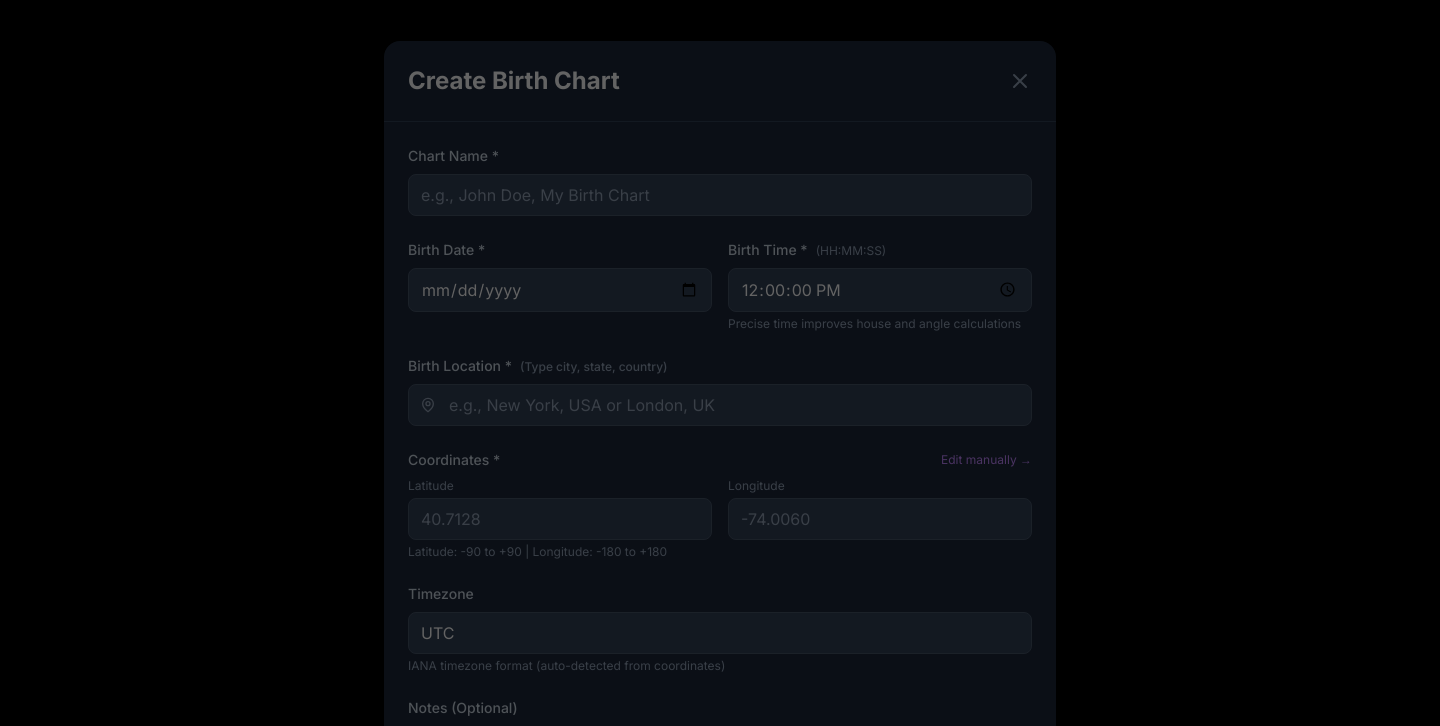
Scenario: BirthChartForm - Geocoding Integration › Dropdown Behavior › should reopen dropdown when focusing search input with results
This screenshot has width=1440, height=726.
Type "Vienna" into the field with placeholder "e.g., New York, USA or London, UK". click: (720, 404)
box: [408,384,1032,426]
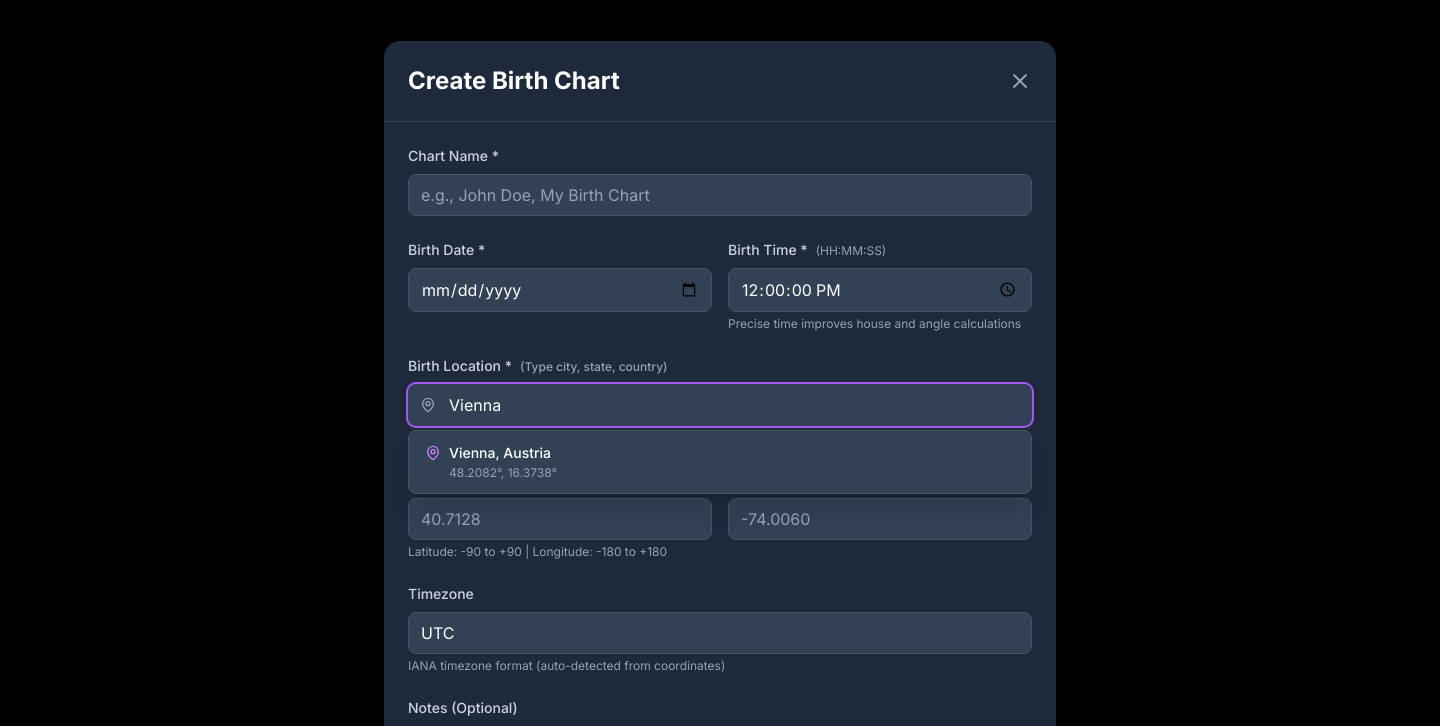
expect the text "Vienna, Austria" is shown: met, box [449,444,551,460]
Click outside to close
Click the heading "Create Birth Chart". click: (514, 80)
box: [408,64,620,96]
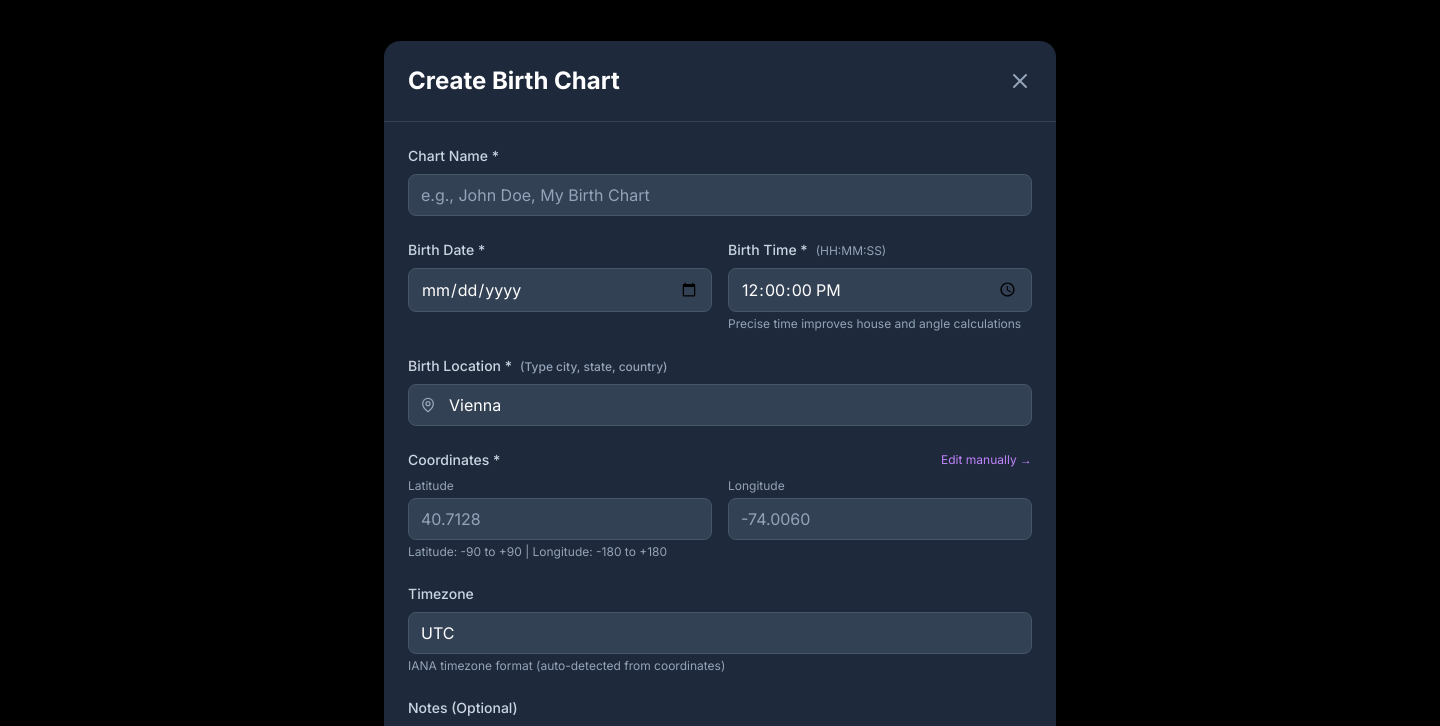
Focus back on search input
Click the field with placeholder "e.g., New York, USA or London, UK". click: (720, 404)
box: [408,384,1032,426]
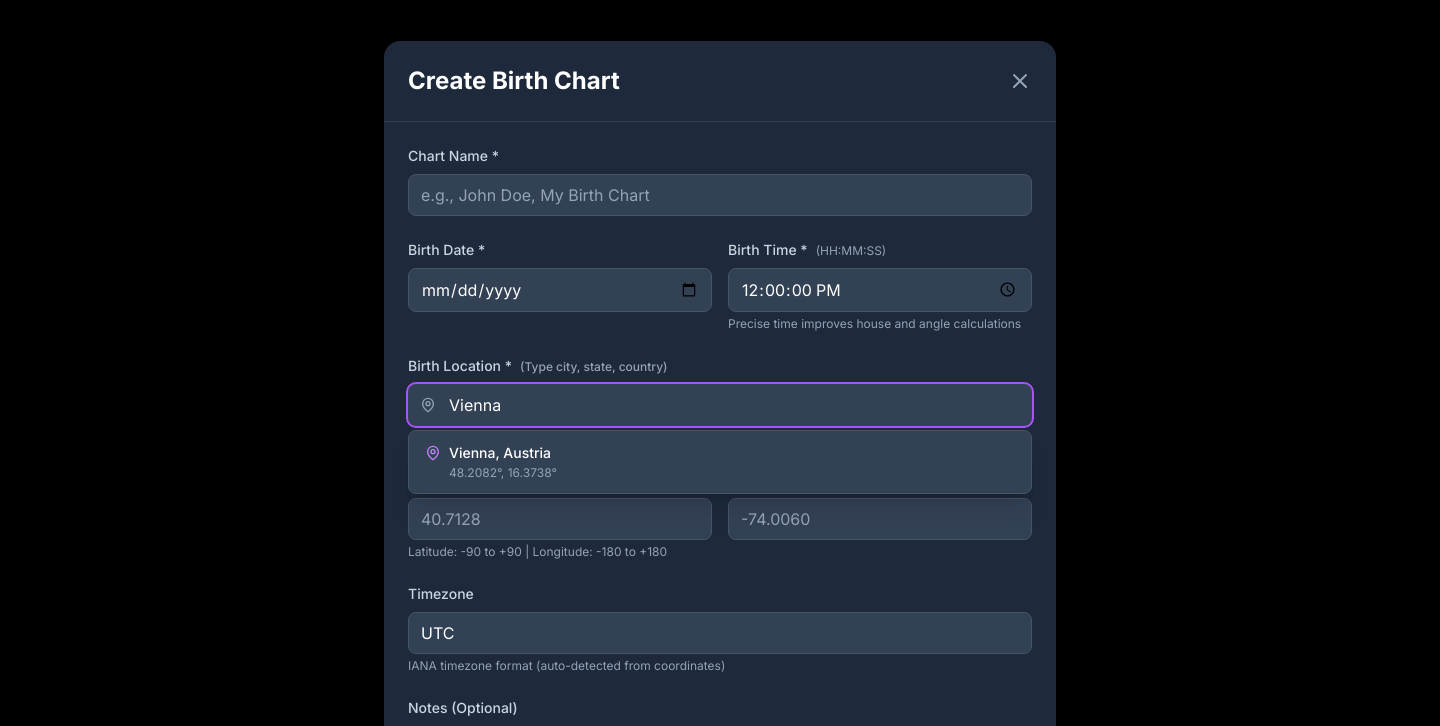
expect the text "Vienna, Austria" is shown: met, box [449,444,551,460]
